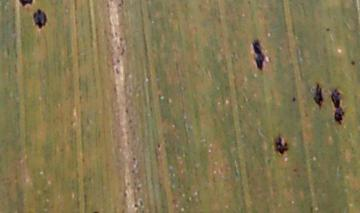tarspot: (329, 88, 346, 125), (250, 36, 266, 73), (273, 133, 289, 156), (312, 82, 324, 111), (32, 8, 47, 30), (16, 1, 36, 9), (132, 201, 138, 210), (290, 95, 297, 102), (323, 26, 331, 32), (349, 59, 355, 66), (154, 142, 160, 149), (90, 210, 99, 213)
